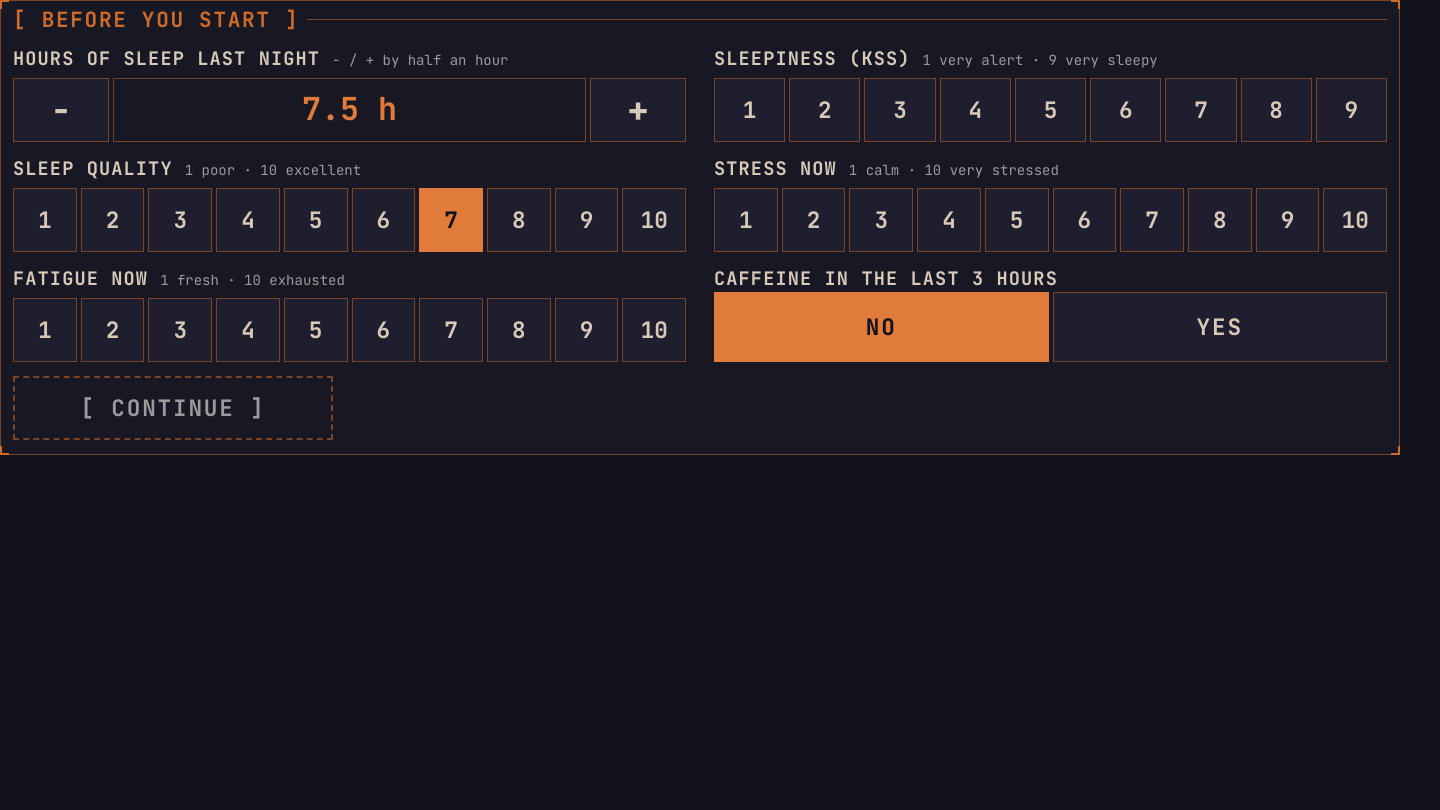
SessionFlow › survey -> screen check -> instructions; reports running state and refuses a second window
Earlier steps of the test are not shown.
Select "3" in the dropdown labelled "Fatigue now". click: [81, 279]
box: x1=13 y1=265 x2=148 y2=292
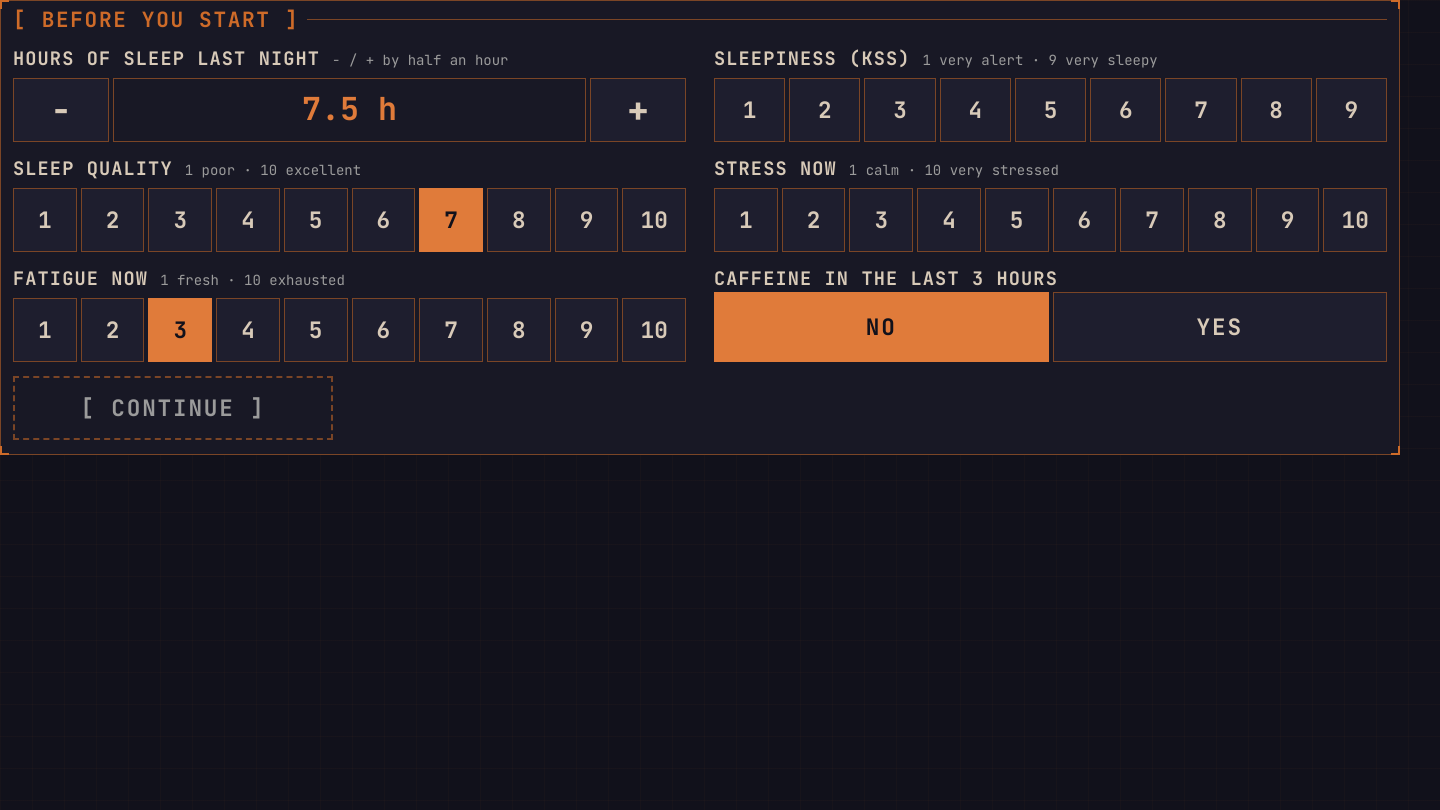
Select "3" in the dropdown labelled "Sleepiness (KSS)". click: [812, 59]
box: x1=714 y1=45 x2=910 y2=72
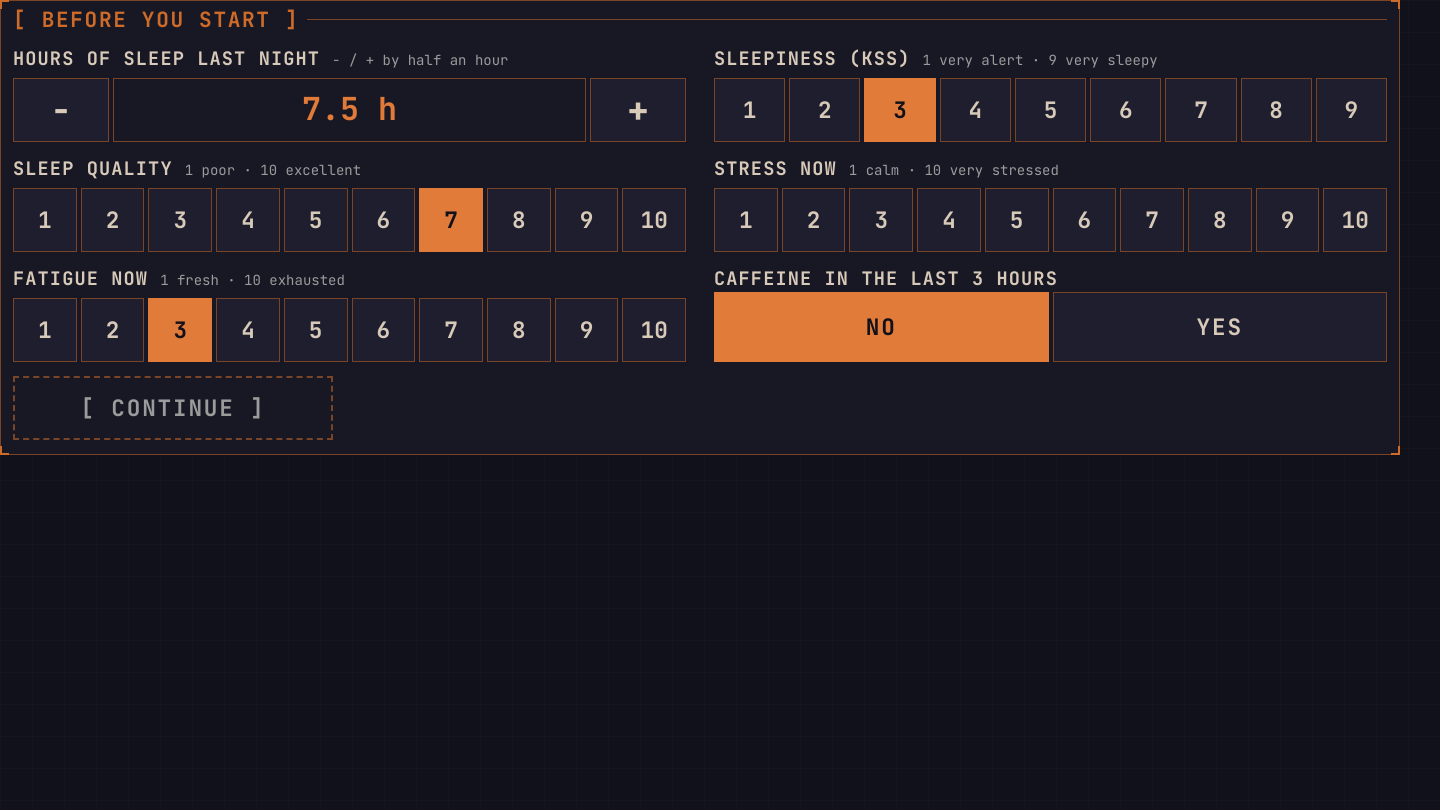
Select "2" in the dropdown labelled "Stress now". click: [775, 169]
box: x1=714 y1=155 x2=837 y2=182
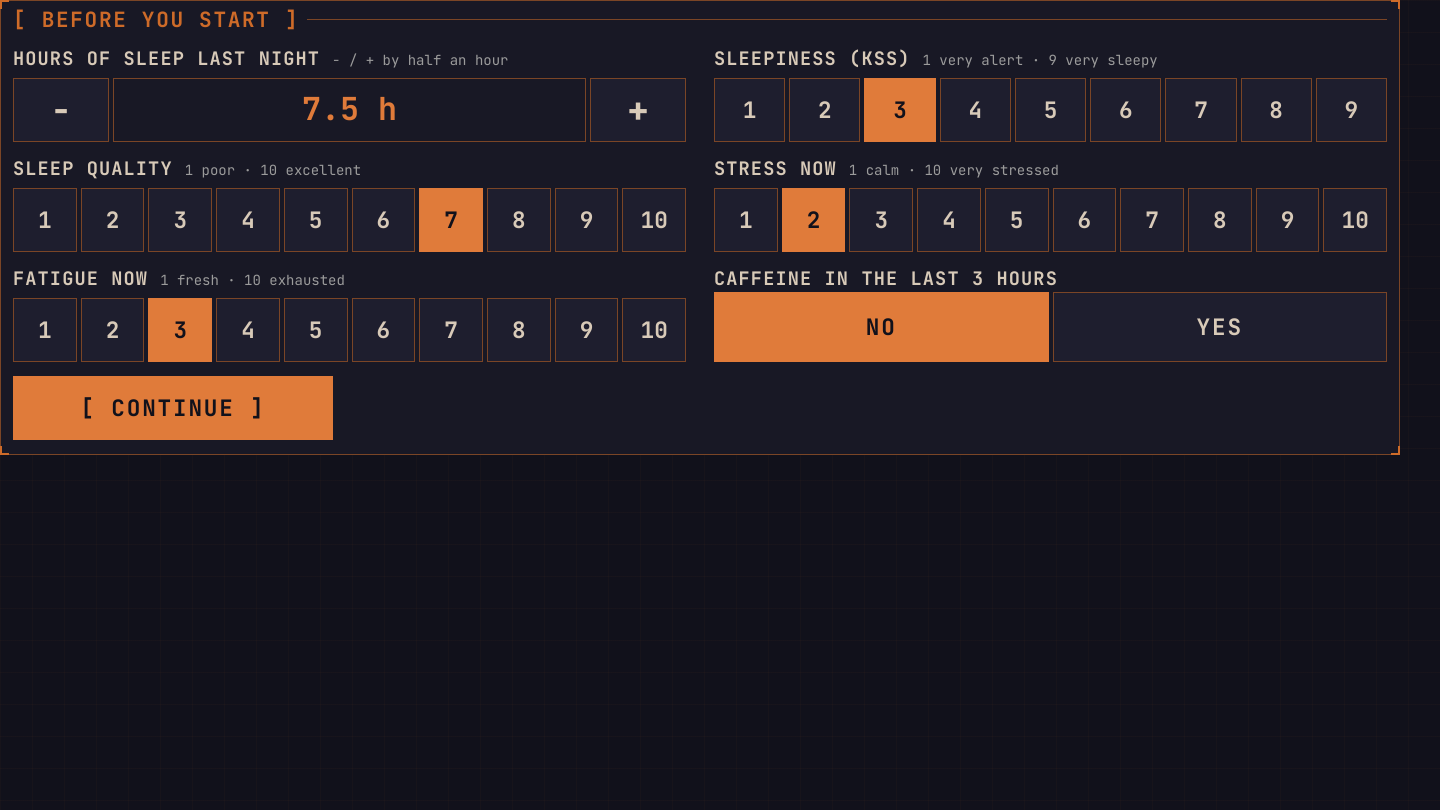
Click the button "CONTINUE". click: [173, 408]
box: x1=13 y1=376 x2=333 y2=440
Wait 3000 ms
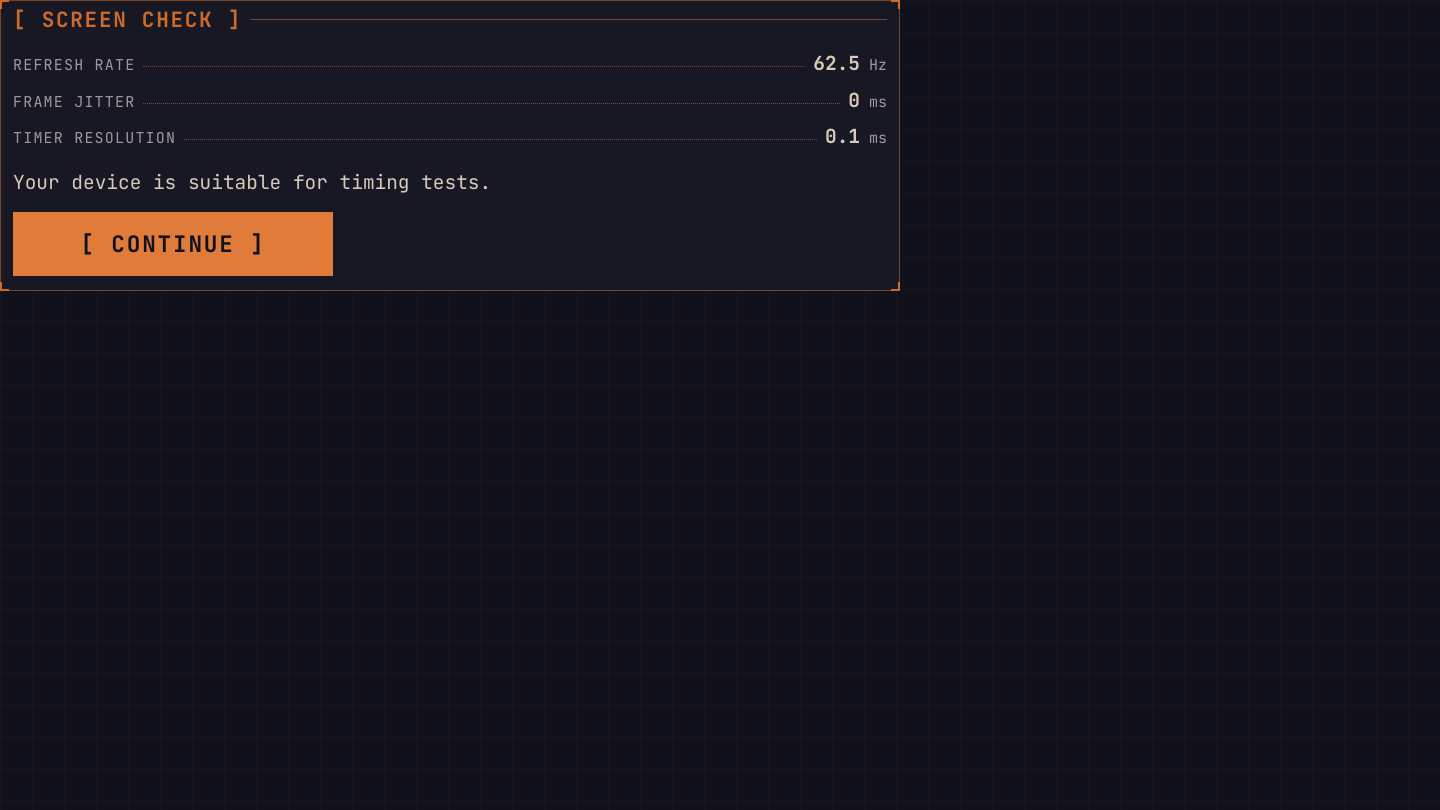
Now the heading "Screen check" is shown, box x1=42 y1=6 x2=213 y2=33
Now the text "Refresh rate" is shown, box x1=13 y1=55 x2=135 y2=77
Click the button "CONTINUE". click: [173, 244]
box: x1=13 y1=212 x2=333 y2=276
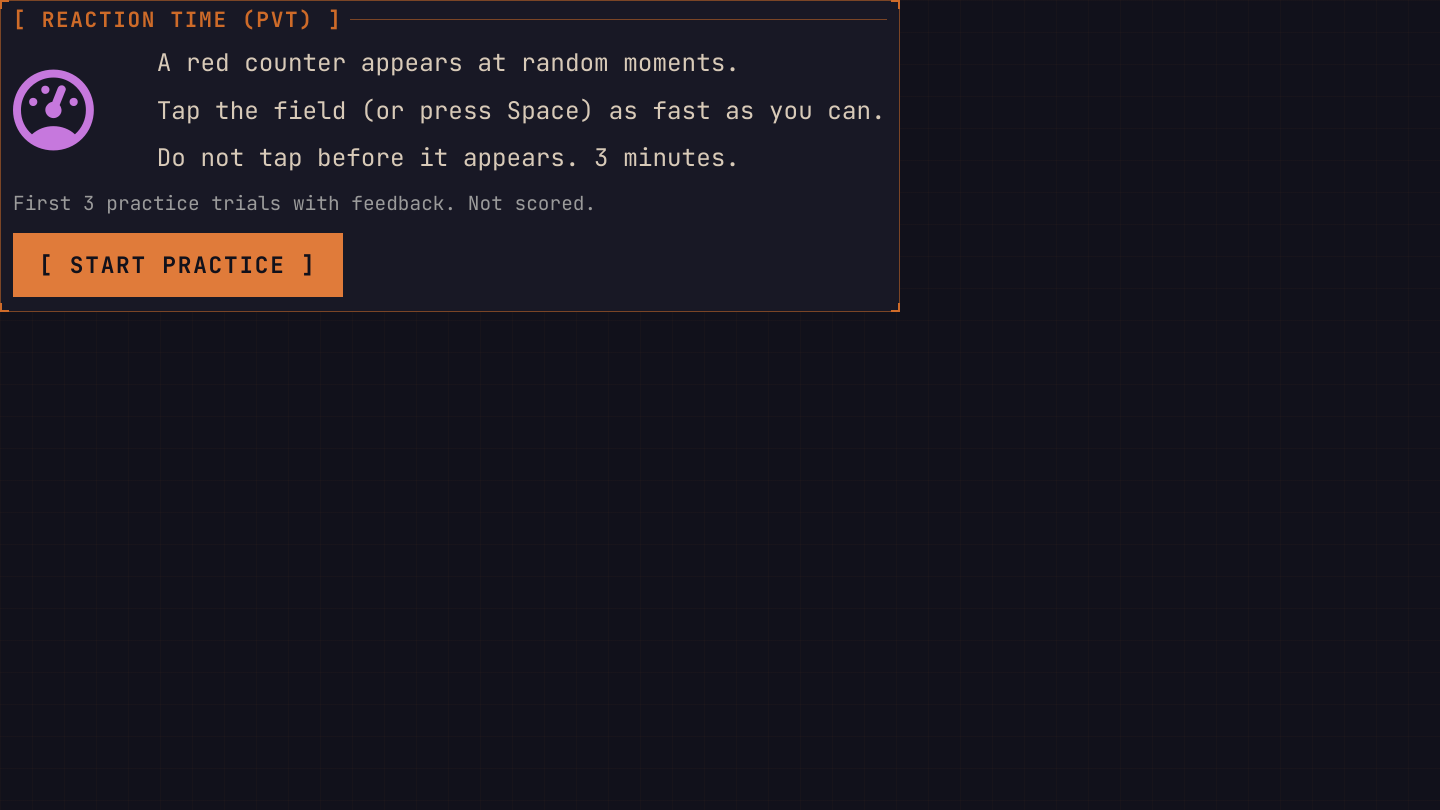
Now the heading "Reaction time (PVT)" is shown, box x1=42 y1=6 x2=314 y2=33
Click the button "START PRACTICE". click: [178, 265]
box: x1=13 y1=233 x2=342 y2=297
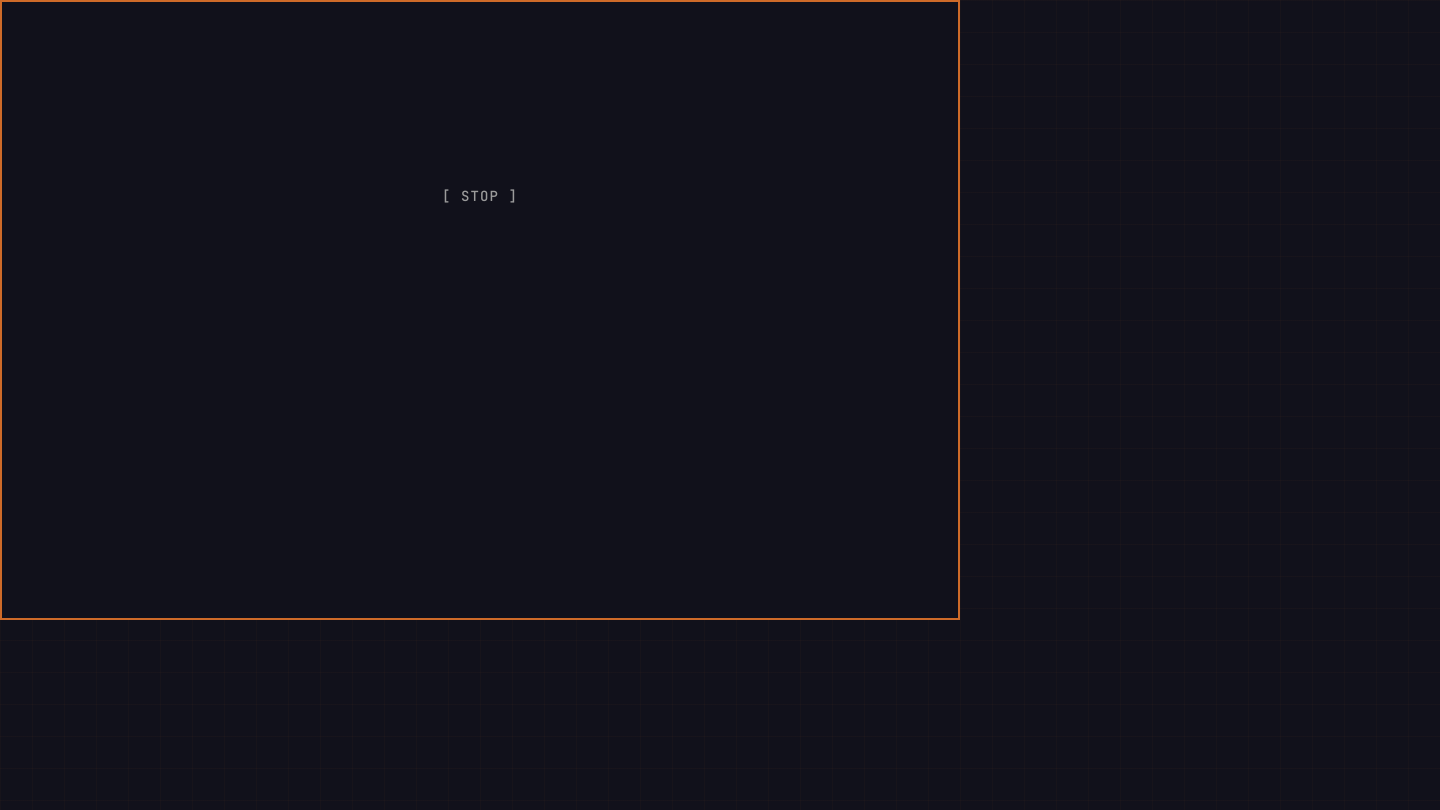
Now the element with test id "cog-field" is shown, box x1=0 y1=0 x2=960 y2=620
